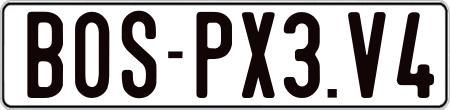0: (73, 10, 109, 99)
3: (281, 10, 323, 97)
4: (397, 11, 438, 98)
B: (25, 9, 62, 96)
P: (195, 12, 234, 102)
S: (121, 9, 158, 99)
V: (346, 10, 389, 101)
X: (240, 10, 276, 99)
